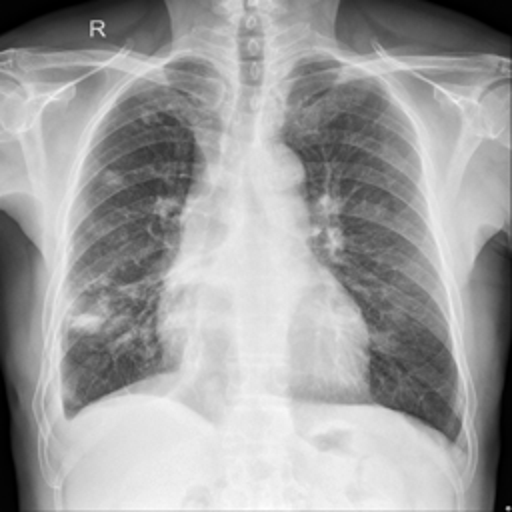TB: (53, 159, 171, 357)
